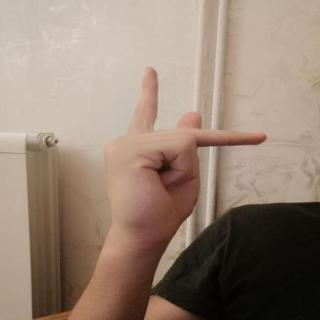DHAA: (92, 60, 279, 257)
